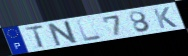7: (101, 13, 123, 36)
8: (128, 10, 152, 33)
K: (151, 6, 179, 29)
L: (75, 18, 104, 42)
N: (47, 19, 80, 48)
T: (23, 24, 46, 49)
